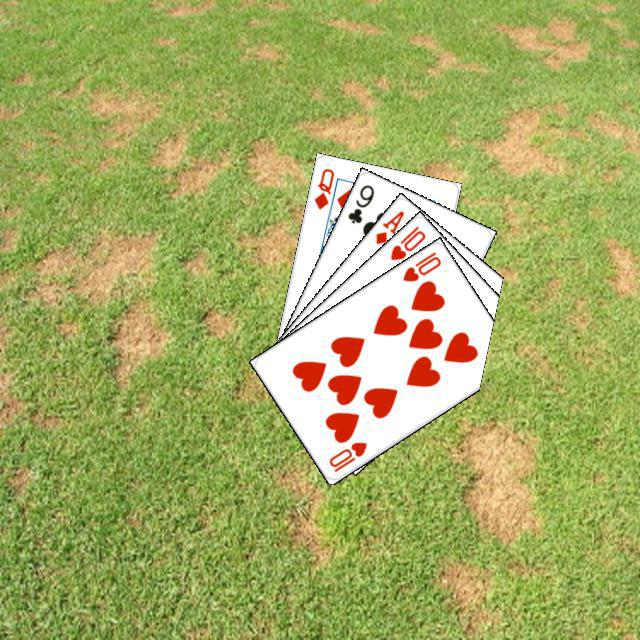10h: (385, 221, 427, 262), (324, 437, 369, 474), (397, 247, 443, 283)
9c: (343, 180, 376, 225)
Ad: (370, 205, 406, 246)
Qd: (309, 163, 336, 211)
